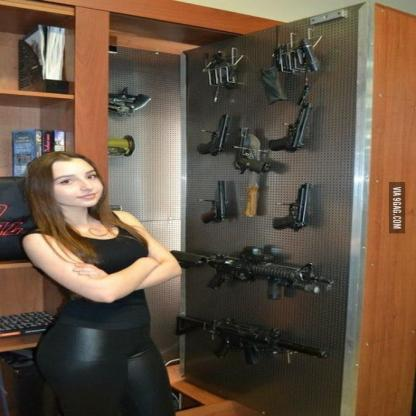Gun: (168, 245, 336, 302), (171, 311, 332, 369)
Knife: (243, 132, 266, 219)
Pistol: (266, 101, 314, 156), (271, 181, 312, 233), (232, 126, 272, 176), (194, 110, 234, 158), (200, 178, 229, 227)
